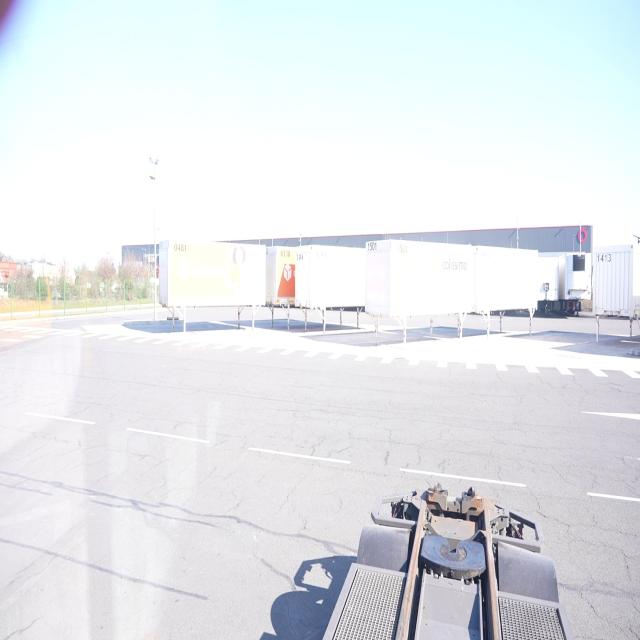Code: (591, 247, 613, 270), (363, 239, 381, 256), (174, 238, 190, 256), (277, 249, 294, 263)
